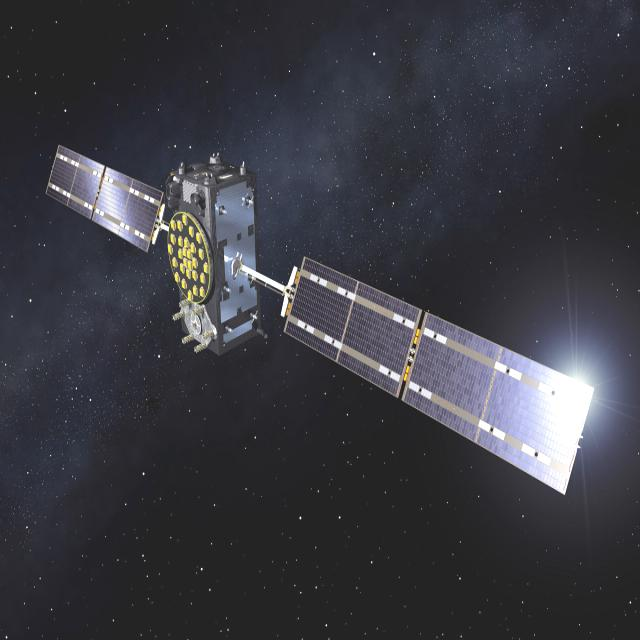satellite: (42, 127, 601, 510)
